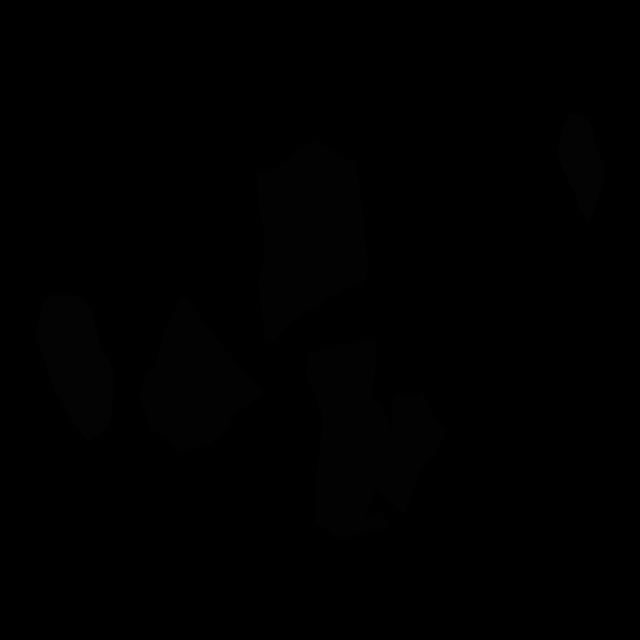cardboard: (306, 340, 446, 539), (257, 140, 368, 340), (140, 298, 263, 452)
metal: (35, 294, 114, 441), (558, 113, 604, 220)
